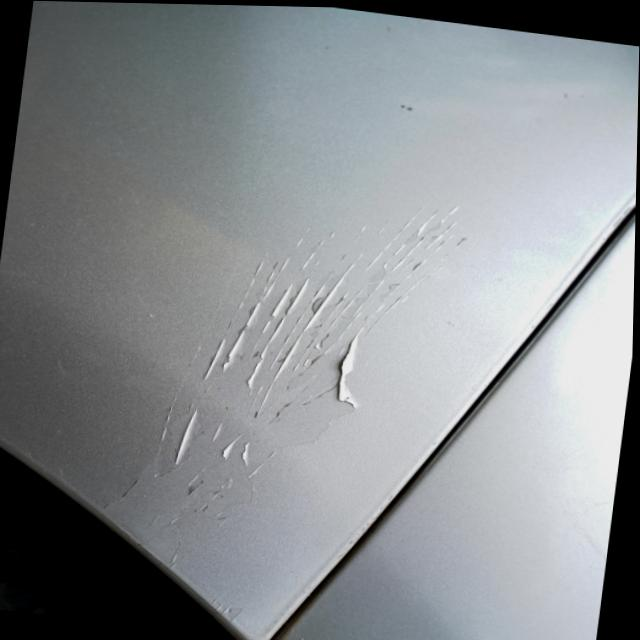Paint-Crack: (96, 199, 479, 571)
